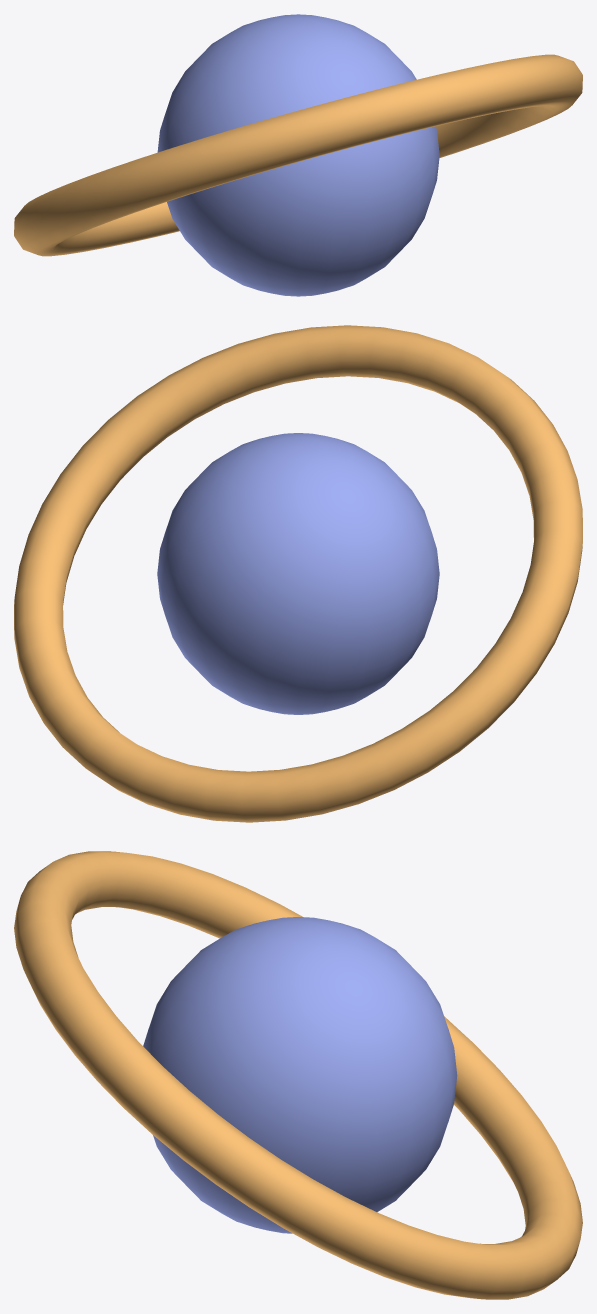
Rendered from orbit-launch.glb.
3 views of the same model, one above another, from view 1: azimuth 30°, elevation 25°; view 2: azimuth 150°, elevation 25°; view 3: azimuth 270°, elevation 25° (orthographic). The views are drawn at different scales.
Parts seen in each view (by area): view 1: Core, Orbit ring; view 2: Orbit ring, Core; view 3: Core, Orbit ring.
Boxes of the visible parts, <box> form: Core: <box>157,14,439,296</box>; Orbit ring: <box>14,54,582,256</box>; Orbit ring: <box>14,325,582,822</box>; Core: <box>157,433,439,714</box>; Core: <box>143,917,457,1233</box>; Orbit ring: <box>14,851,582,1299</box>.
Size of the model in its own units: 1.97 by 1.14 by 1.68.
